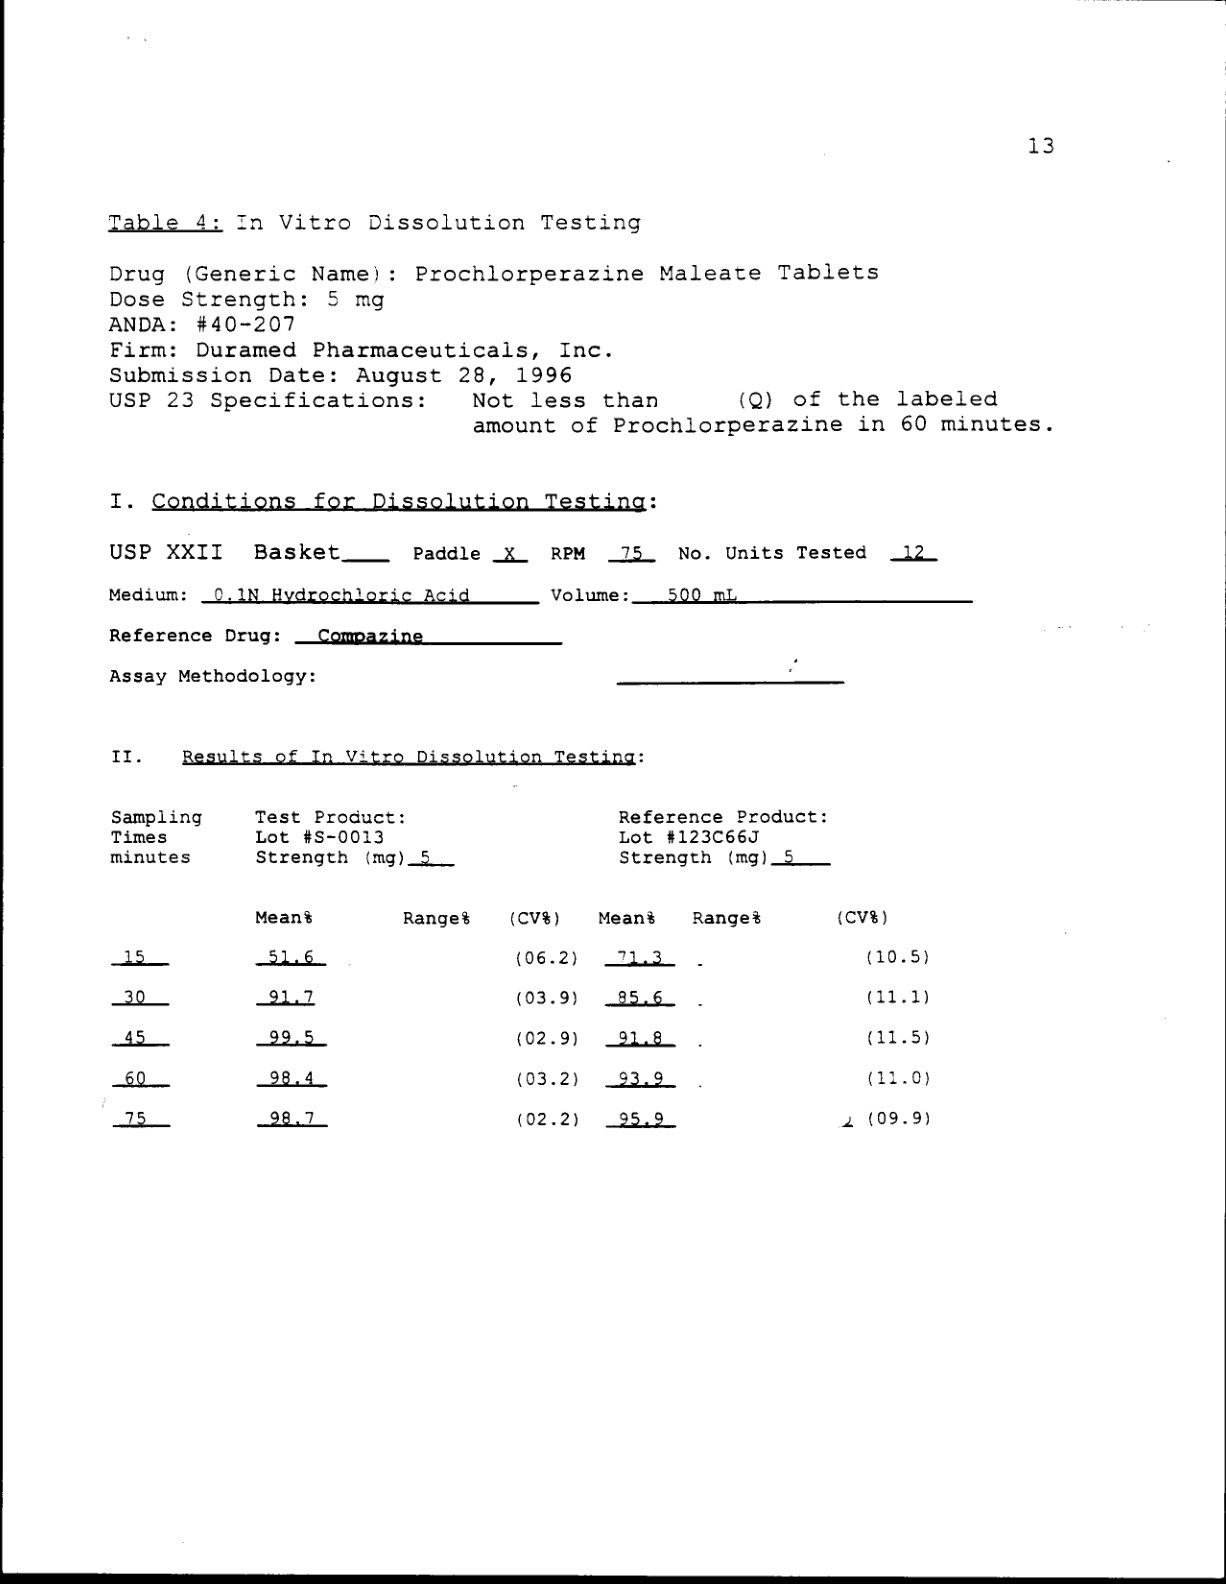nolines: (107, 906, 934, 1134), (107, 804, 834, 870)
